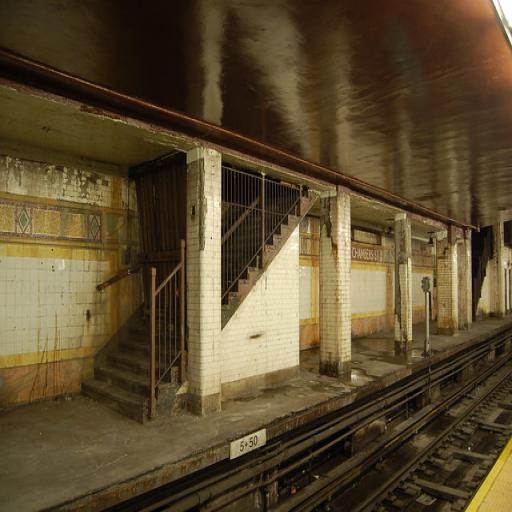platform_edge: (55, 435, 274, 512), (280, 339, 494, 410)
